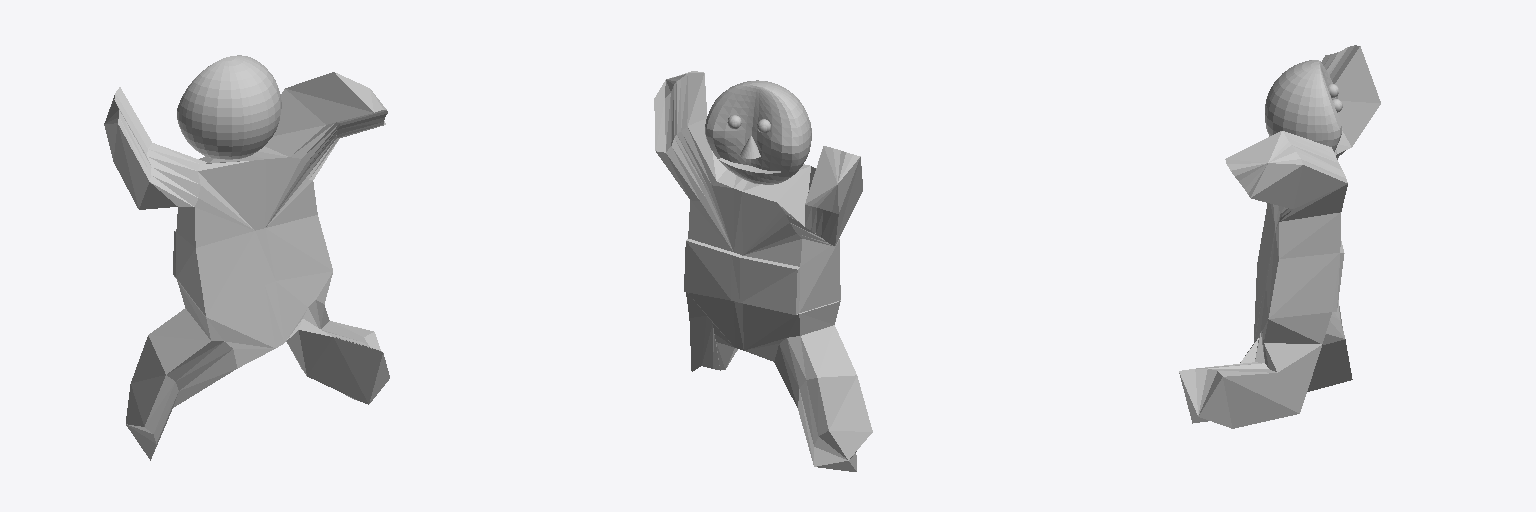
File: manjump_000022.obj
3 views of the same model, side by side, from view 1: azimuth 30°, elevation 25°; view 2: azimuth 150°, elevation 25°; view 3: azimuth 270°, elevation 25° (orthographic).
Parts seen in each view (by area): view 1: Cube; view 2: Cube; view 3: Cube.
Part boxes in pixels (x1,y1,x2,y2): Cube: (104,55,389,460); Cube: (654,71,872,471); Cube: (1179,45,1380,428).
Size of the model in its own units: 80.92 by 125 by 61.46.